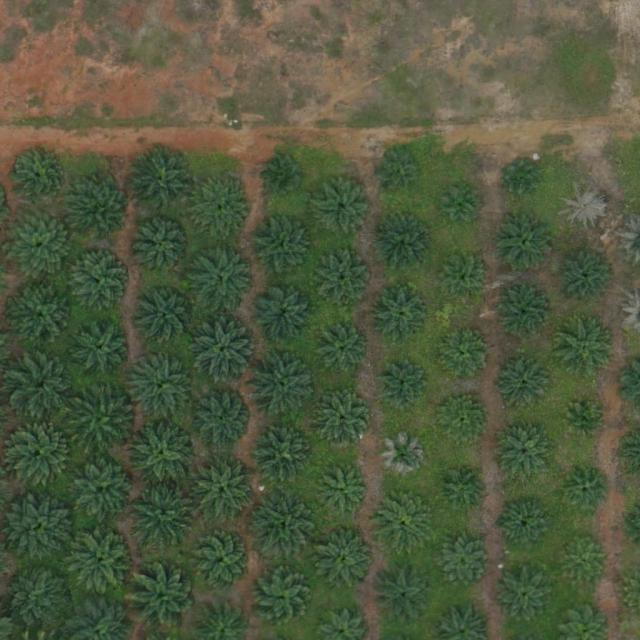Dead: (561, 183, 608, 231), (381, 434, 428, 481)
Healthy: (6, 211, 77, 282), (69, 384, 140, 455), (9, 281, 79, 352), (126, 353, 196, 424), (127, 420, 197, 491), (132, 481, 202, 552), (191, 315, 261, 386), (249, 350, 319, 421), (249, 491, 319, 562), (2, 565, 72, 636), (9, 353, 79, 423), (8, 493, 78, 563), (128, 147, 198, 217), (128, 564, 198, 634), (70, 181, 133, 244), (70, 249, 133, 312), (252, 423, 315, 486), (312, 177, 375, 240), (372, 563, 435, 626), (69, 530, 132, 593), (10, 423, 72, 486), (72, 319, 135, 381), (74, 458, 136, 521), (134, 218, 196, 281), (135, 284, 197, 347), (192, 179, 254, 242), (193, 246, 255, 309), (192, 388, 255, 450), (252, 216, 314, 279), (254, 283, 316, 346), (376, 491, 438, 554), (431, 532, 493, 595), (194, 461, 256, 523), (495, 213, 557, 275), (557, 247, 619, 309), (557, 318, 619, 380), (315, 528, 377, 590), (252, 567, 314, 629), (192, 530, 254, 592), (318, 254, 373, 310), (436, 394, 491, 450), (10, 149, 65, 204), (315, 326, 370, 381), (317, 394, 372, 449), (376, 219, 431, 274), (374, 289, 429, 344), (438, 331, 493, 386), (497, 359, 552, 414), (500, 499, 555, 554), (497, 570, 552, 625), (498, 286, 552, 341), (498, 428, 552, 483), (321, 467, 368, 515), (380, 363, 427, 410), (560, 537, 607, 584)
Small: (437, 461, 492, 516), (440, 258, 487, 305), (565, 468, 612, 515), (380, 153, 420, 193), (566, 402, 605, 442), (441, 183, 480, 222), (501, 159, 540, 198), (266, 155, 305, 194)
